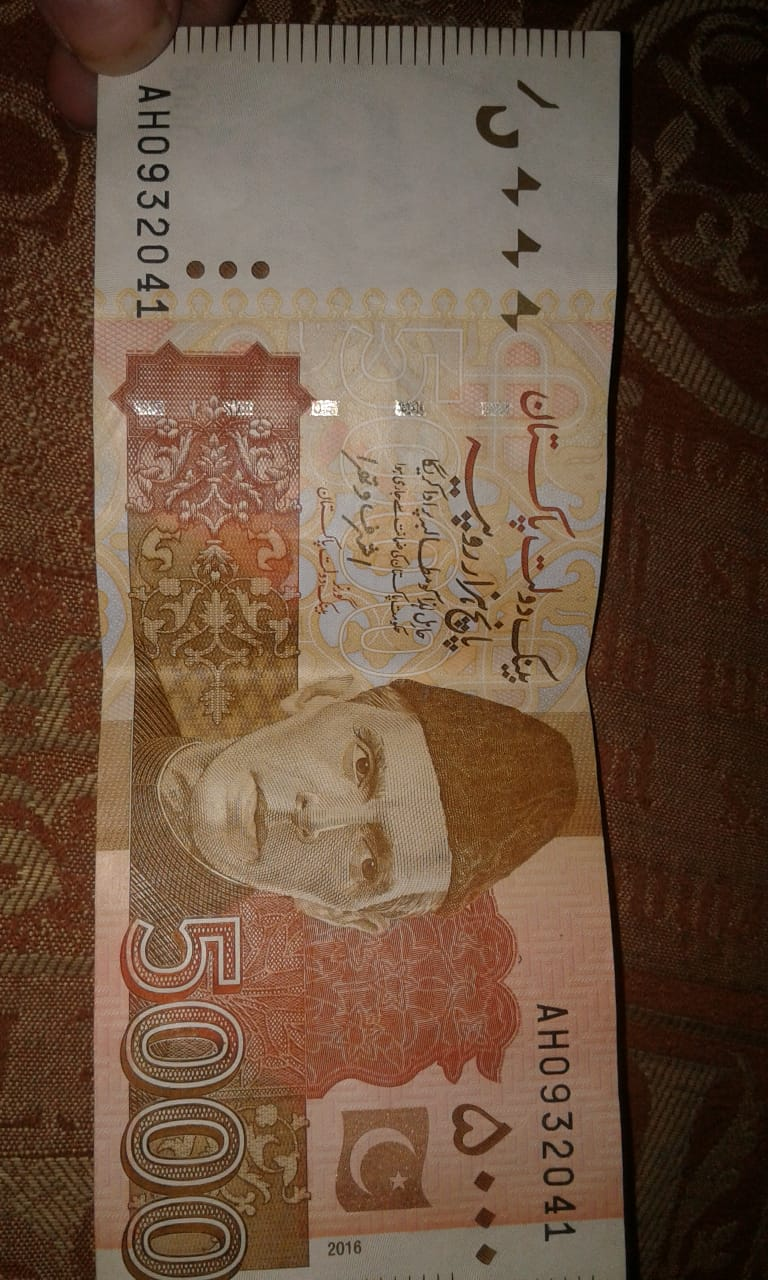5000 rupee: (68, 19, 640, 1280)
